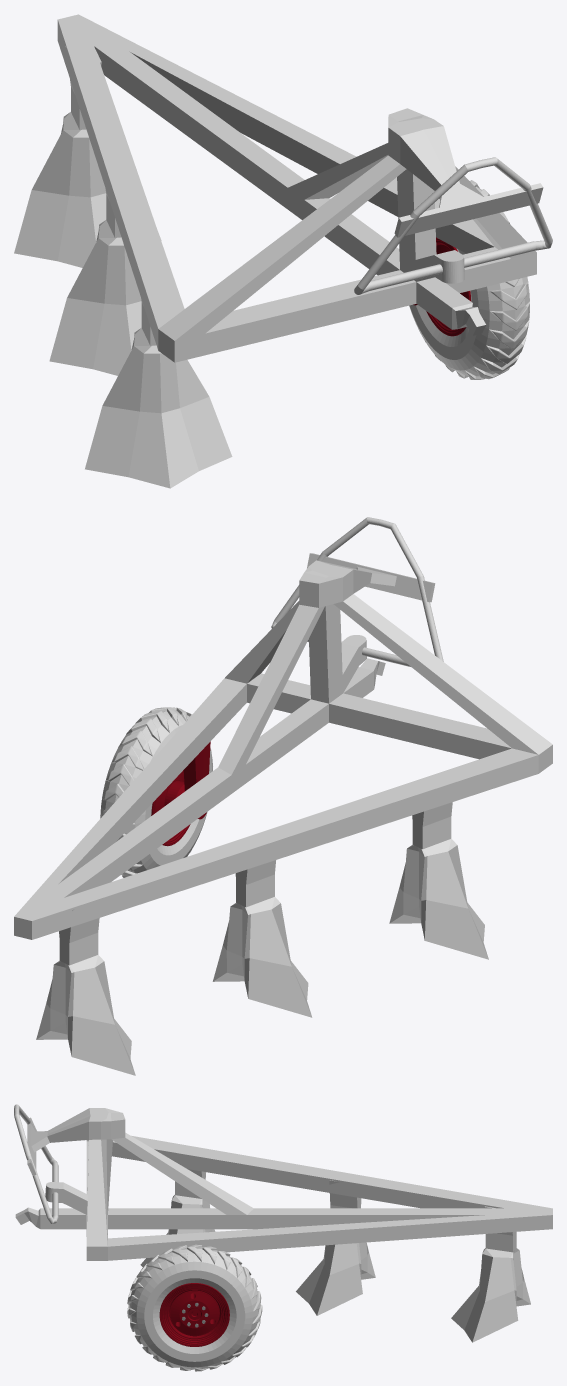
File: plow.fbx
3 views of the same model, one above another, from view 1: azimuth 30°, elevation 25°; view 2: azimuth 150°, elevation 25°; view 3: azimuth 270°, elevation 25° (orthographic). The views are drawn at different scales.
Visible parts, largest first — view 1: Куб.008, Куб.010, Передняя шина левая.001, Цилиндр.003, Куб.009; view 2: Куб.008, Куб.010, Передняя шина левая.001, Цилиндр.003, Куб.009, Внутрення часть диска передний левый.001; view 3: Куб.008, Куб.010, Передняя шина левая.001, Внешняя часть диска передний левый.001, Внутрення часть диска передний левый.001, Цилиндр.003, Куб.009.
Boxes of the visible parts, left/top/right/bottom form: Куб.008: left=57, top=14, right=536, bottom=362; Куб.010: left=14, top=46, right=232, bottom=488; Передняя шина левая.001: left=409, top=180, right=529, bottom=379; Цилиндр.003: left=354, top=157, right=552, bottom=294; Куб.009: left=394, top=183, right=543, bottom=237; Куб.008: left=14, top=560, right=552, bottom=939; Куб.010: left=36, top=802, right=488, bottom=1075; Передняя шина левая.001: left=100, top=707, right=213, bottom=877; Цилиндр.003: left=271, top=517, right=443, bottom=666; Куб.009: left=307, top=553, right=435, bottom=602; Внутрення часть диска передний левый.001: left=155, top=741, right=210, bottom=819; Куб.008: left=15, top=1108, right=552, bottom=1260; Куб.010: left=140, top=1169, right=530, bottom=1342; Передняя шина левая.001: left=127, top=1244, right=262, bottom=1371; Внешняя часть диска передний левый.001: left=159, top=1283, right=229, bottom=1346; Внутрення часть диска передний левый.001: left=169, top=1290, right=219, bottom=1336; Цилиндр.003: left=14, top=1104, right=58, bottom=1223; Куб.009: left=27, top=1117, right=36, bottom=1175.
Bounding box in the file's own units: 341 × 277 × 603.
